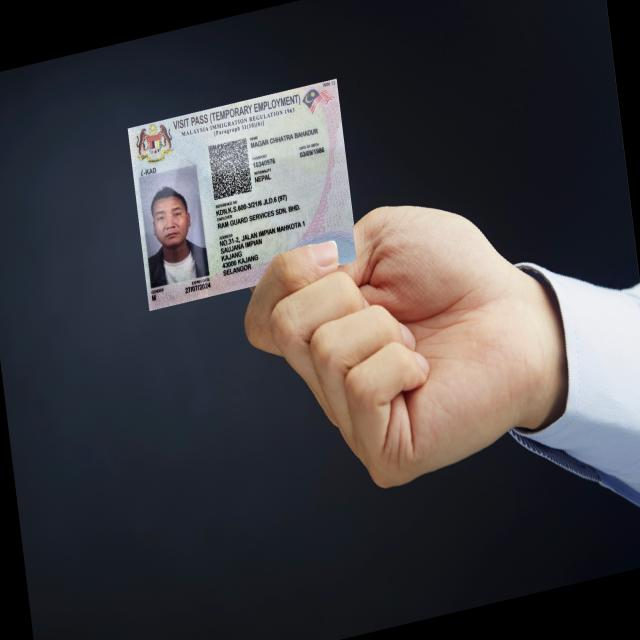ikad-temp: (126, 77, 356, 311)
